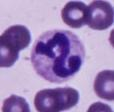N: (31, 29, 86, 82)
